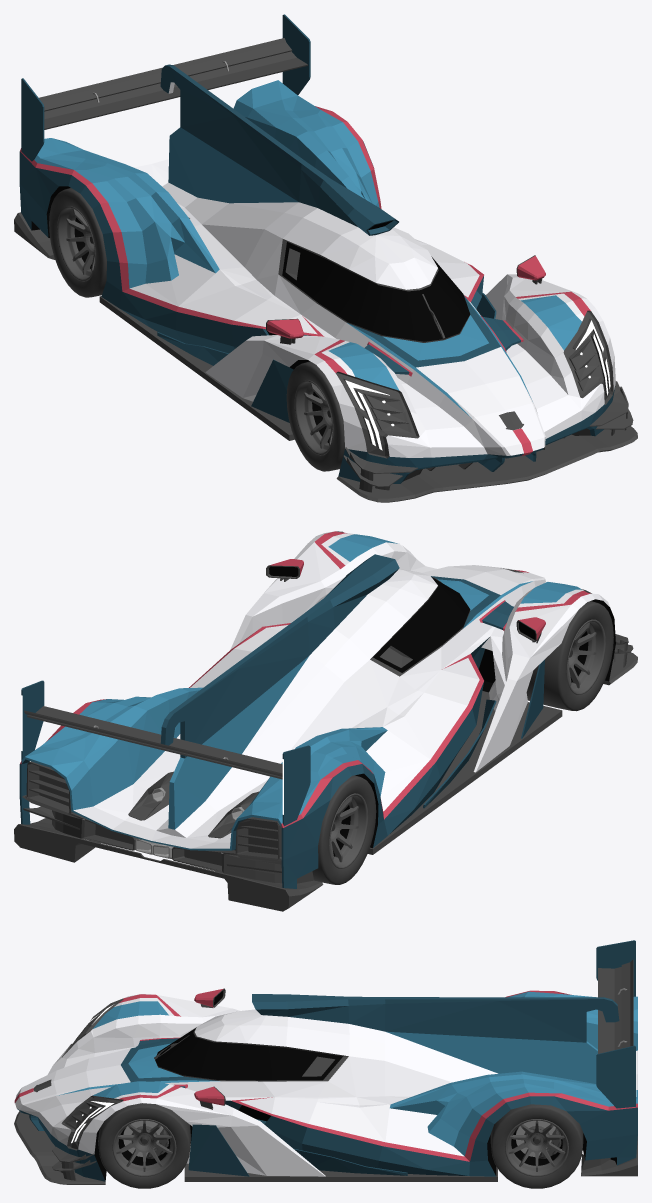
File: nocturne.glb
3 renders of one model, top to bottom at view 1: azimuth 30°, elevation 25°; view 2: azimuth 150°, elevation 25°; view 3: azimuth 270°, elevation 25°, orthographic. The views are drawn at different scales.
Visible parts, largest first — view 1: body, wheel.001, wheel.002; view 2: body, wheel.001, wheel.002; view 3: body, wheel.001, wheel.002, rear, front.
Part boxes in pixels (x1,y1,x2,y2): body: [14, 14, 637, 502]; wheel.001: [286, 361, 344, 471]; wheel.002: [49, 188, 106, 297]; body: [14, 531, 637, 911]; wheel.001: [526, 601, 613, 711]; wheel.002: [312, 775, 376, 884]; body: [14, 940, 637, 1184]; wheel.001: [98, 1103, 190, 1188]; wheel.002: [490, 1104, 583, 1188]; rear: [516, 1120, 561, 1158]; front: [123, 1120, 168, 1158].
Bounding box in the file's own units: 1.97 × 1.17 × 4.67.
